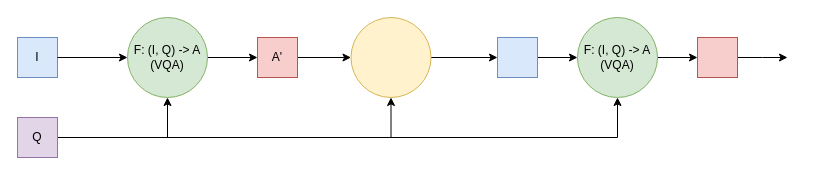
Image size: 813x175. Some labels were removed from this diagram. Here are the shapes that lost their labels. From the top down, the centre of each, then its label:
At point 390,57: "G: (Q, A) -> I (IG)".
At point 517,57: "I'".
At point 717,57: "A''".
